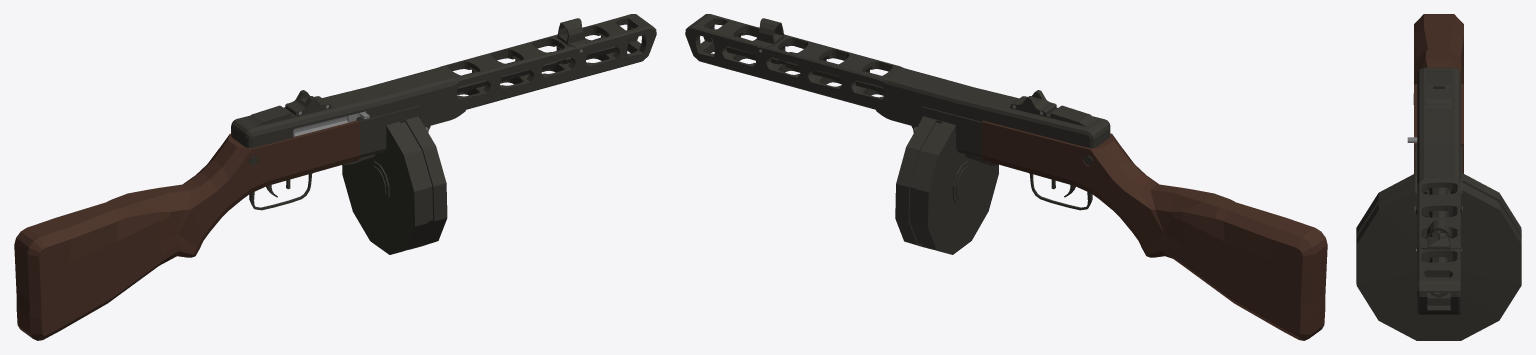
Rendered from ppsh41.fbx.
The picture shows the model from 3 angles, left to right: view 1: azimuth 30°, elevation 25°; view 2: azimuth 150°, elevation 25°; view 3: azimuth 270°, elevation 25°; orthographic projection. The views are drawn at different scales.
Visible parts, largest first — view 1: Cube.001; view 2: Cube.001; view 3: Cube.001.
Part boxes in pixels (left/top/right/bottom): Cube.001: left=14, top=14, right=656, bottom=340; Cube.001: left=685, top=14, right=1327, bottom=340; Cube.001: left=1356, top=14, right=1521, bottom=340.
Bounding box in the file's own units: 393 × 110 × 78.27.
